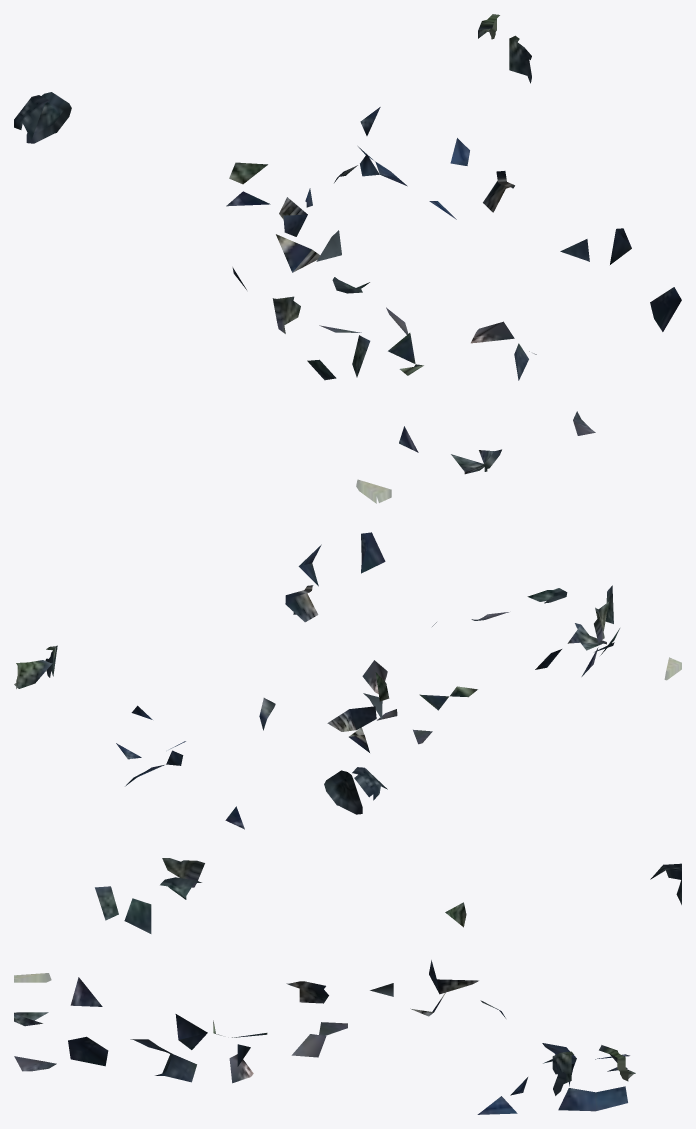
3 renders of one model, top to bottom at view 1: azimuth 30°, elevation 25°; view 2: azimuth 150°, elevation 25°; view 3: azimuth 270°, elevation 25°, orthographic. The views are drawn at different scales.
Visible parts, largest first — view 1: 30436272704370425513_1; view 2: 30436272704370425513_1; view 3: 30436272704370425513_1.
Part boxes in pixels (x1=…): 30436272704370425513_1: x1=14, y1=14, x2=681, y2=503; 30436272704370425513_1: x1=14, y1=532, x2=681, y2=829; 30436272704370425513_1: x1=14, y1=858, x2=681, y2=1114.
Size of the model in its own units: 27.62 by 8.02 by 38.26.
Materials: 1 (1 with a texture image).
